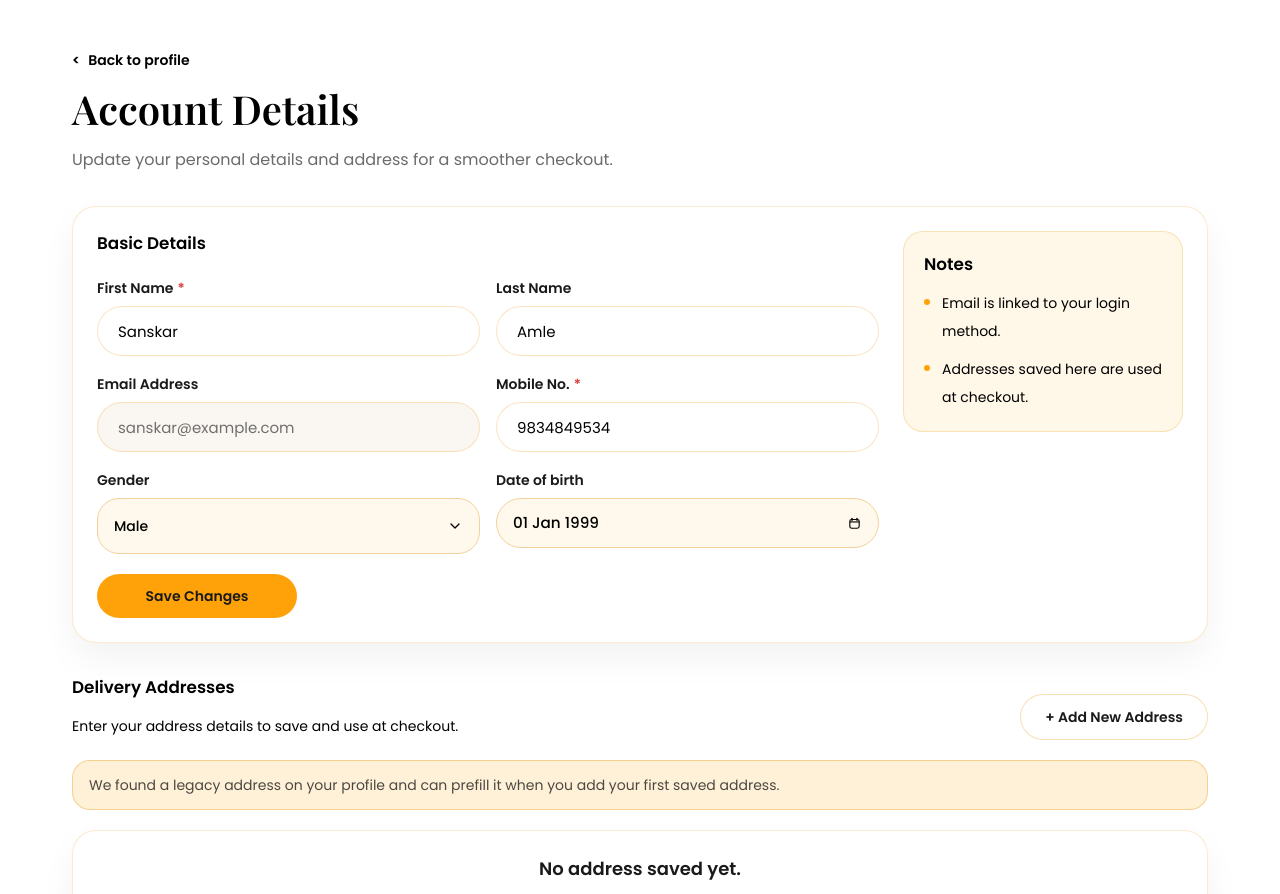
Test: AccountDetails › prefills the add-address modal from the legacy profile address when no saved addresses exist
Expected: the heading "Delivery Addresses" is shown, [72,675,235,699]
Step 1. Click the button "+ Add New Address" → (1114, 717), box [1020,694,1208,740]
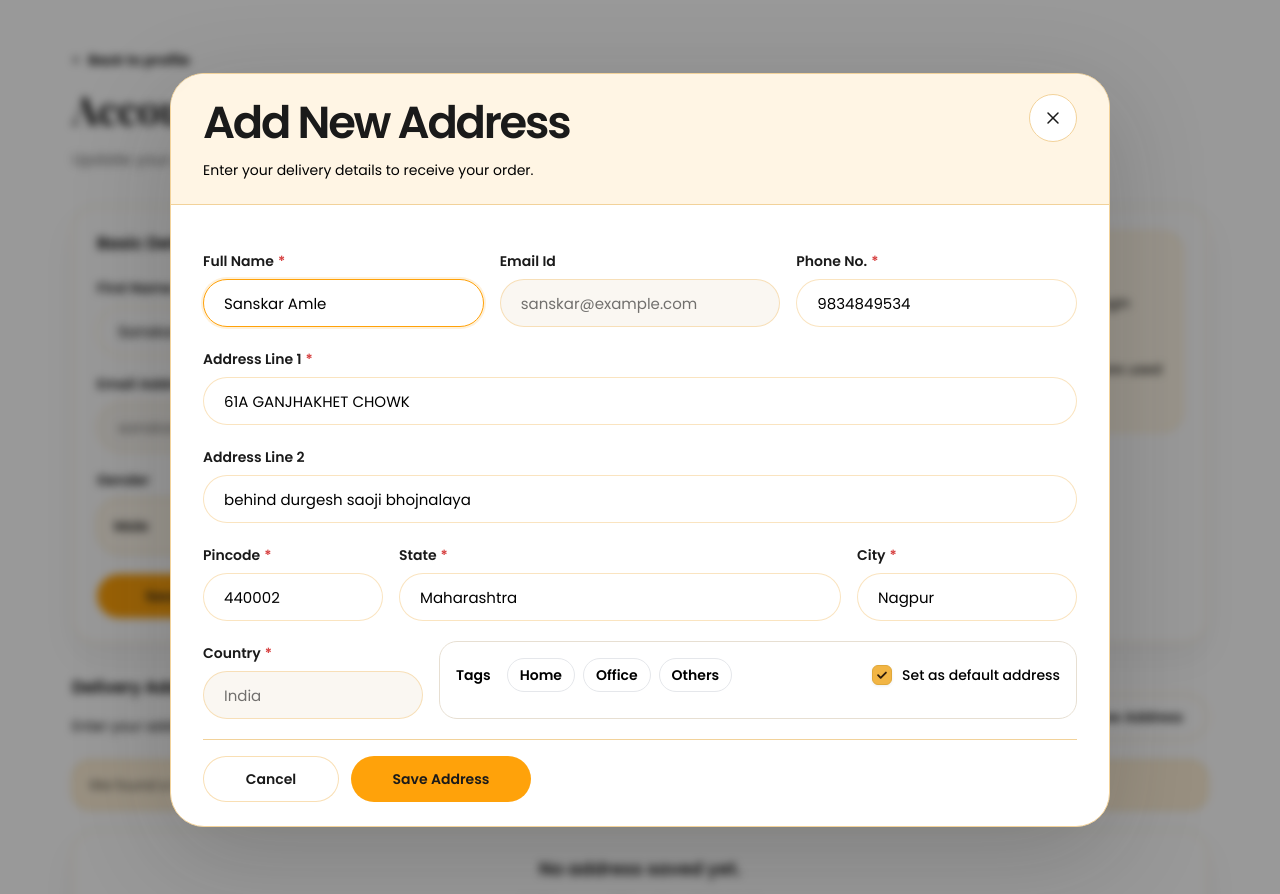
Expected: the heading "Add New Address" is shown, [203,102,569,144]
Expected: the field showing "61A GANJHAKHET CHOWK" is shown, [203,377,1077,425]
Expected: the field showing "behind durgesh saoji bhojnalaya" is shown, [203,475,1077,523]
